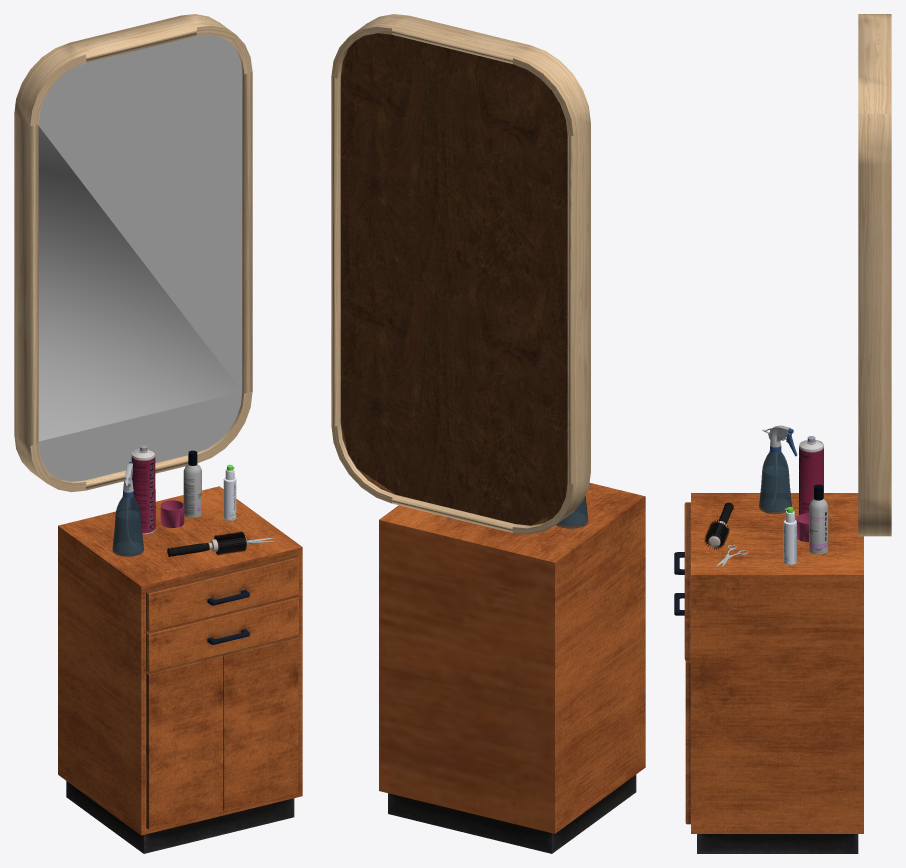
Rendered from barber_station.glb.
3 views of the same model, side by side, from view 1: azimuth 30°, elevation 25°; view 2: azimuth 150°, elevation 25°; view 3: azimuth 270°, elevation 25° (orthographic). The views are drawn at different scales.
Visible parts, largest first — view 1: barber_station; view 2: barber_station; view 3: barber_station.
Boxes of the visible parts, bbox=[...] form: barber_station: bbox=[14, 14, 302, 853]; barber_station: bbox=[331, 14, 645, 853]; barber_station: bbox=[674, 14, 891, 853].
Bounding box in the file's own units: 0.756 × 2.4 × 0.6162.
Materials: 9 (9 with a texture image).
